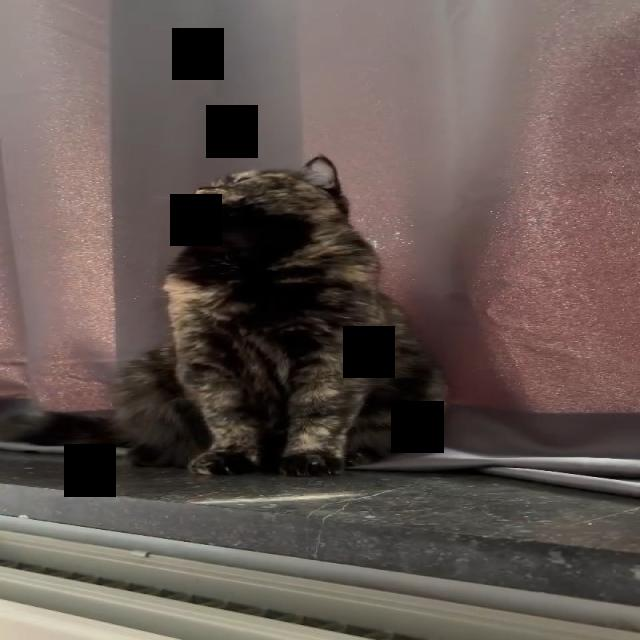authorized: (108, 153, 449, 477)
